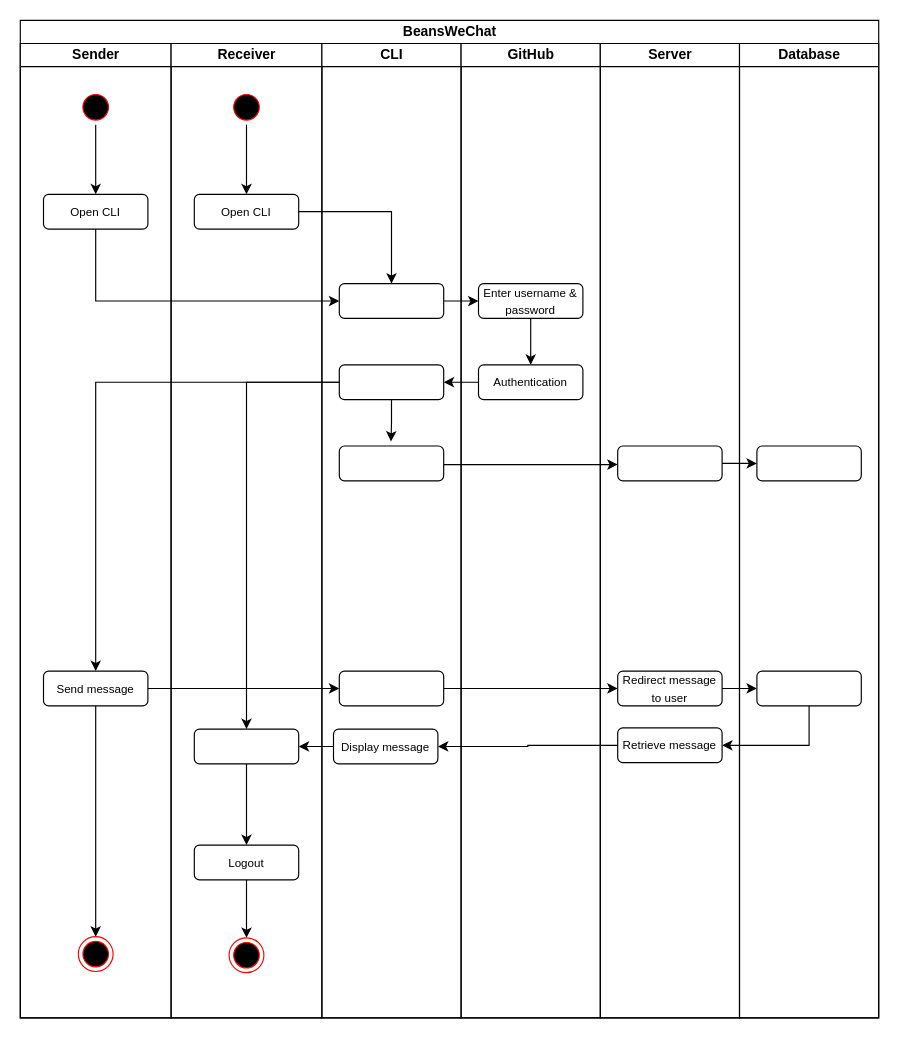
Image size: 899x1038. Some labels were removed from this diagram. The centre of each missing label's shape, as x and y in pixels:
"Logged in" goes at point 391,382.
"Login" goes at point 391,300.
"Read message" goes at point 246,746.
"Receive user details" goes at point 669,463.
"Store message data" goes at point 808,688.
"Store user details" goes at point 808,463.
"Type message" goes at point 391,688.
"User details" goes at point 391,463.
